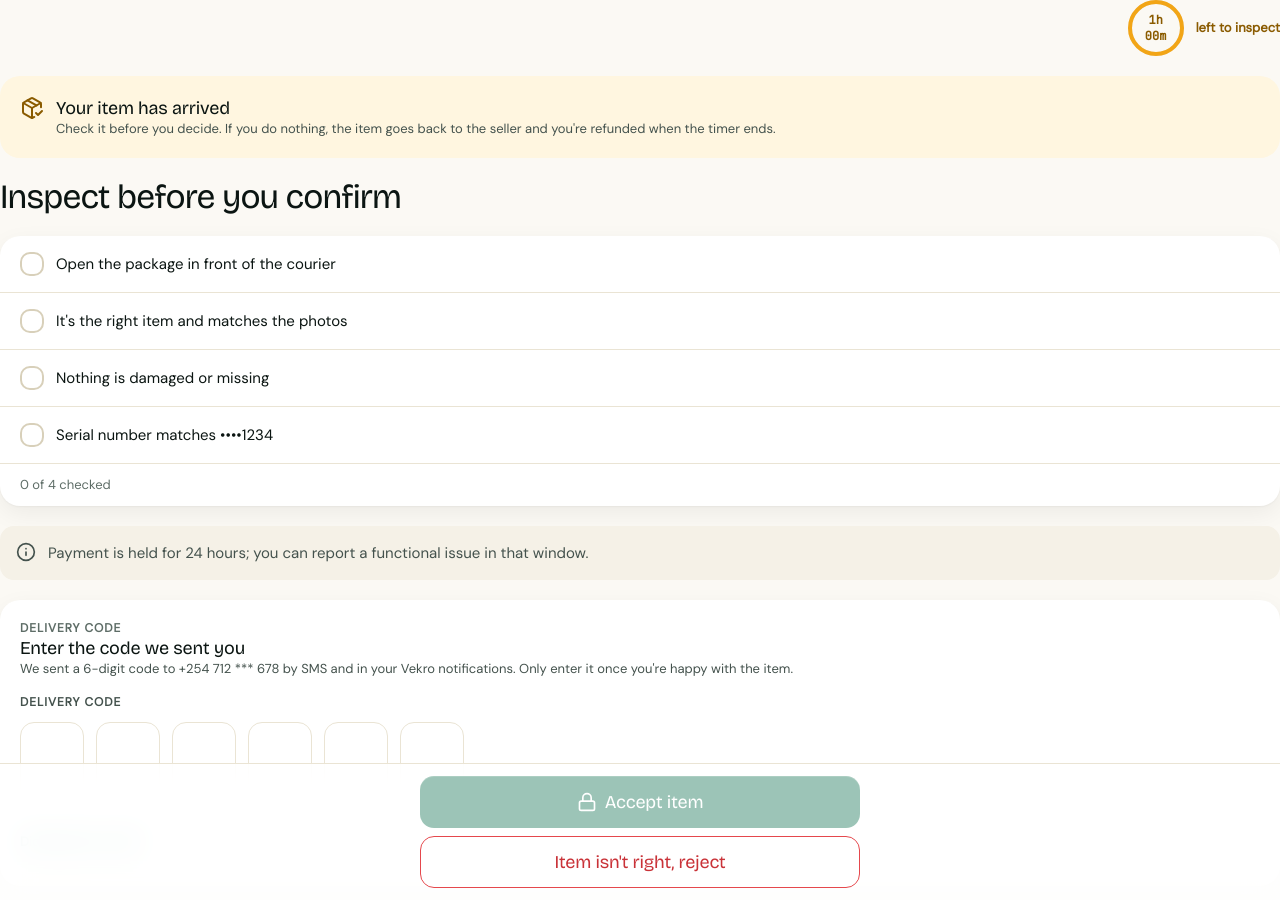
B4 arrival and inspection › accepting with the delivery code › clears the cells and says so when the code is wrong
The image size is (1280, 900).
Click the field named "digit 1".
click(52, 762)  # box [20, 722, 84, 802]
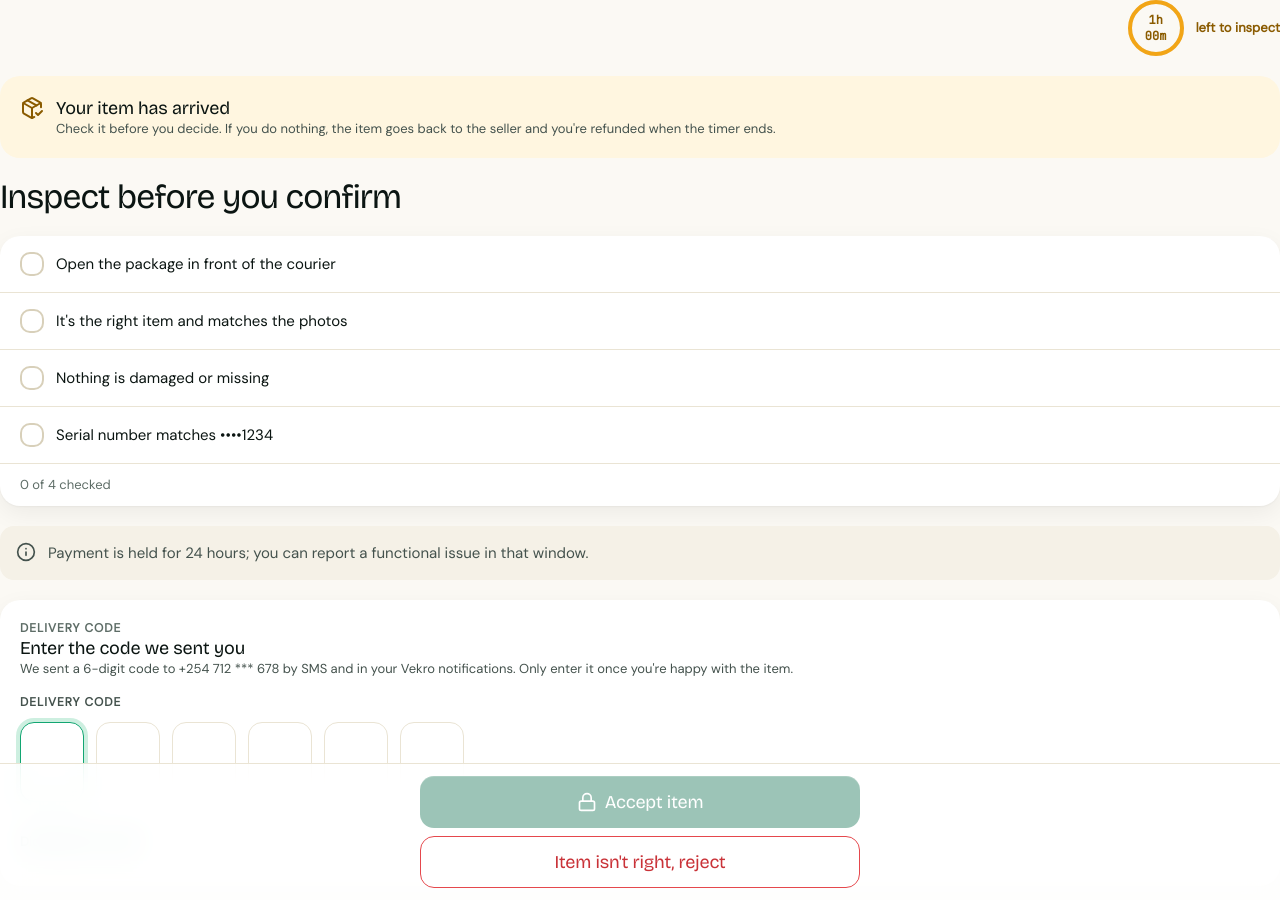
Type keys "111111"
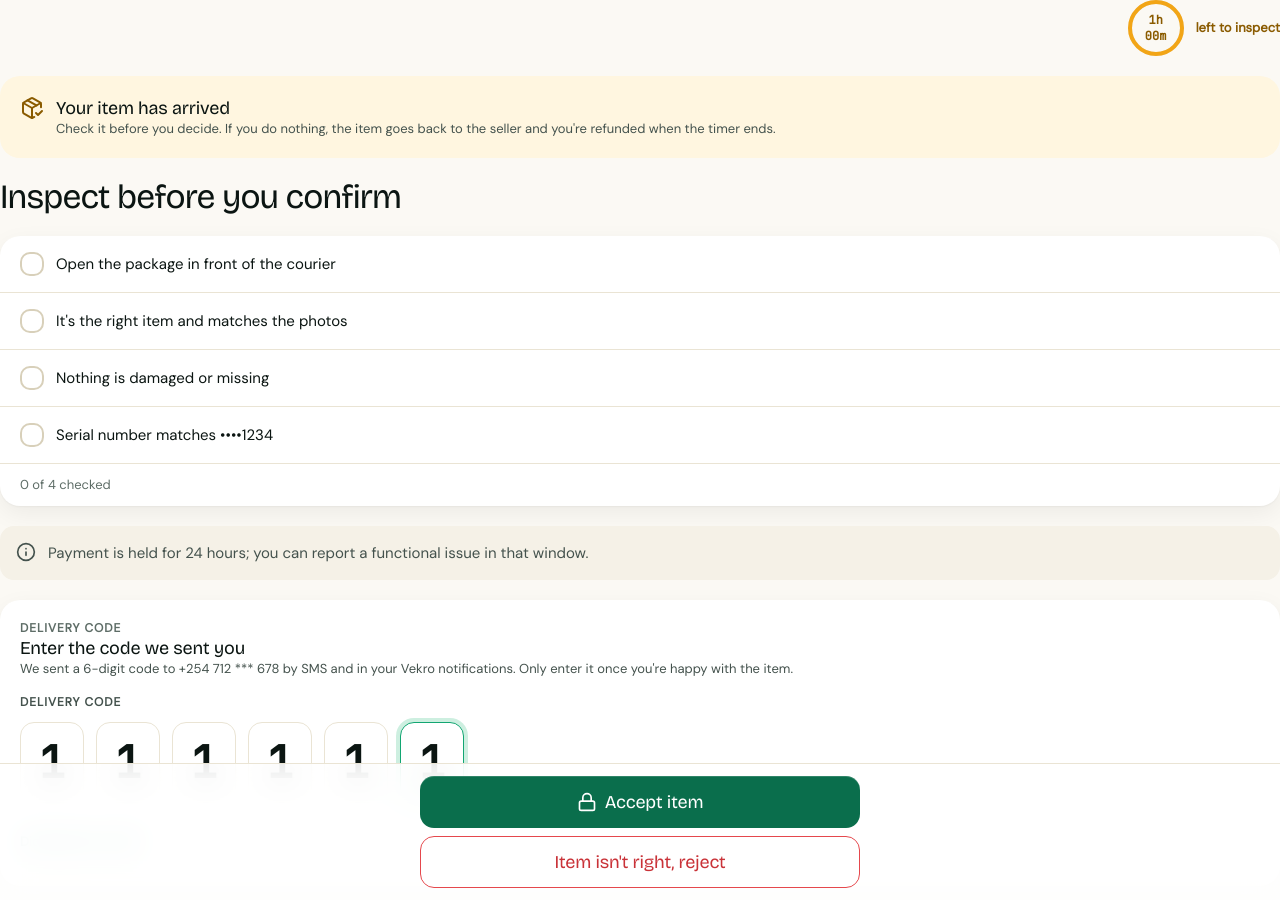
Click the button "Accept item".
click(640, 802)  # box [420, 776, 860, 828]
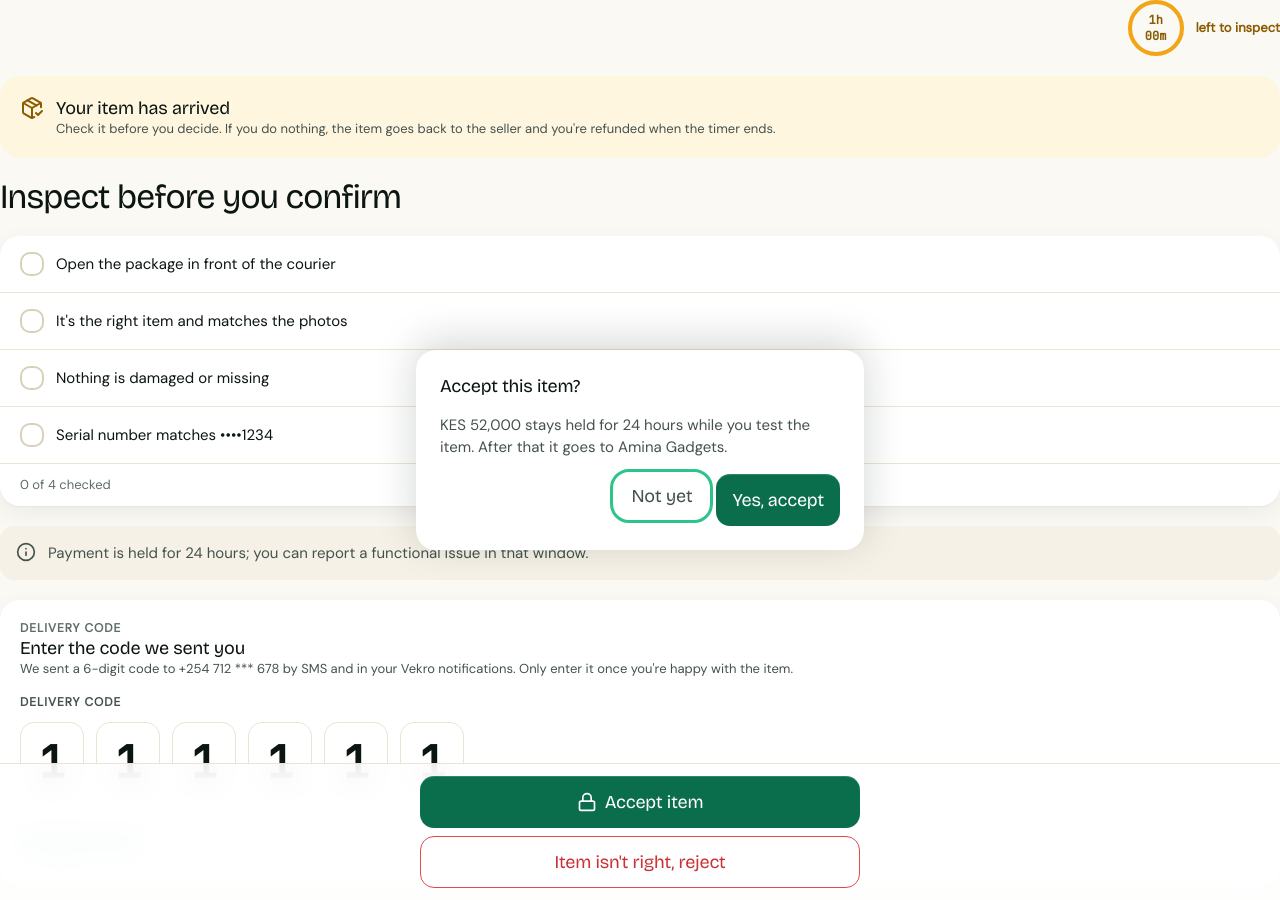
Click the button "Yes, accept".
click(778, 500)  # box [716, 474, 840, 526]
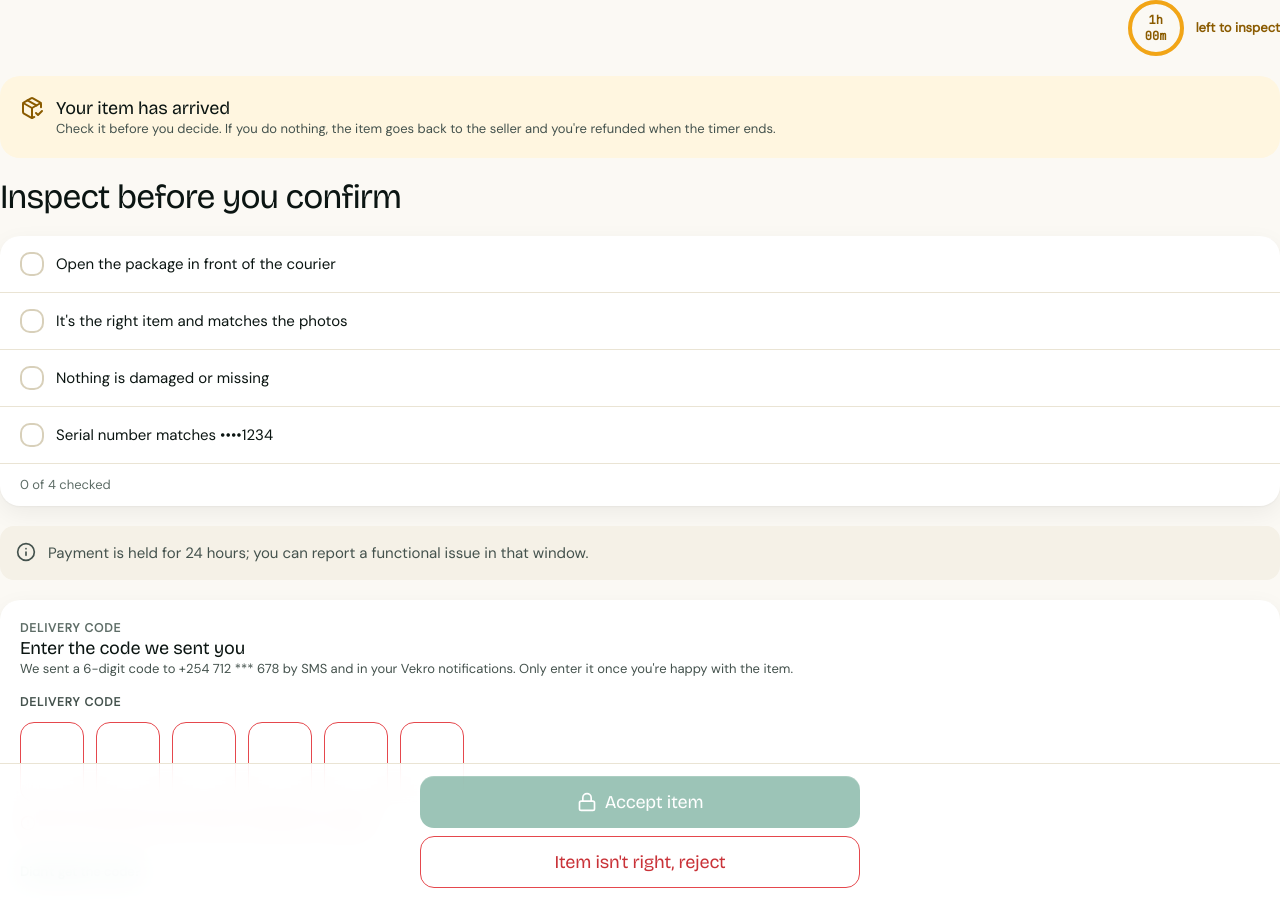
Now the button "Accept item" is disabled, box [420, 776, 860, 828]
